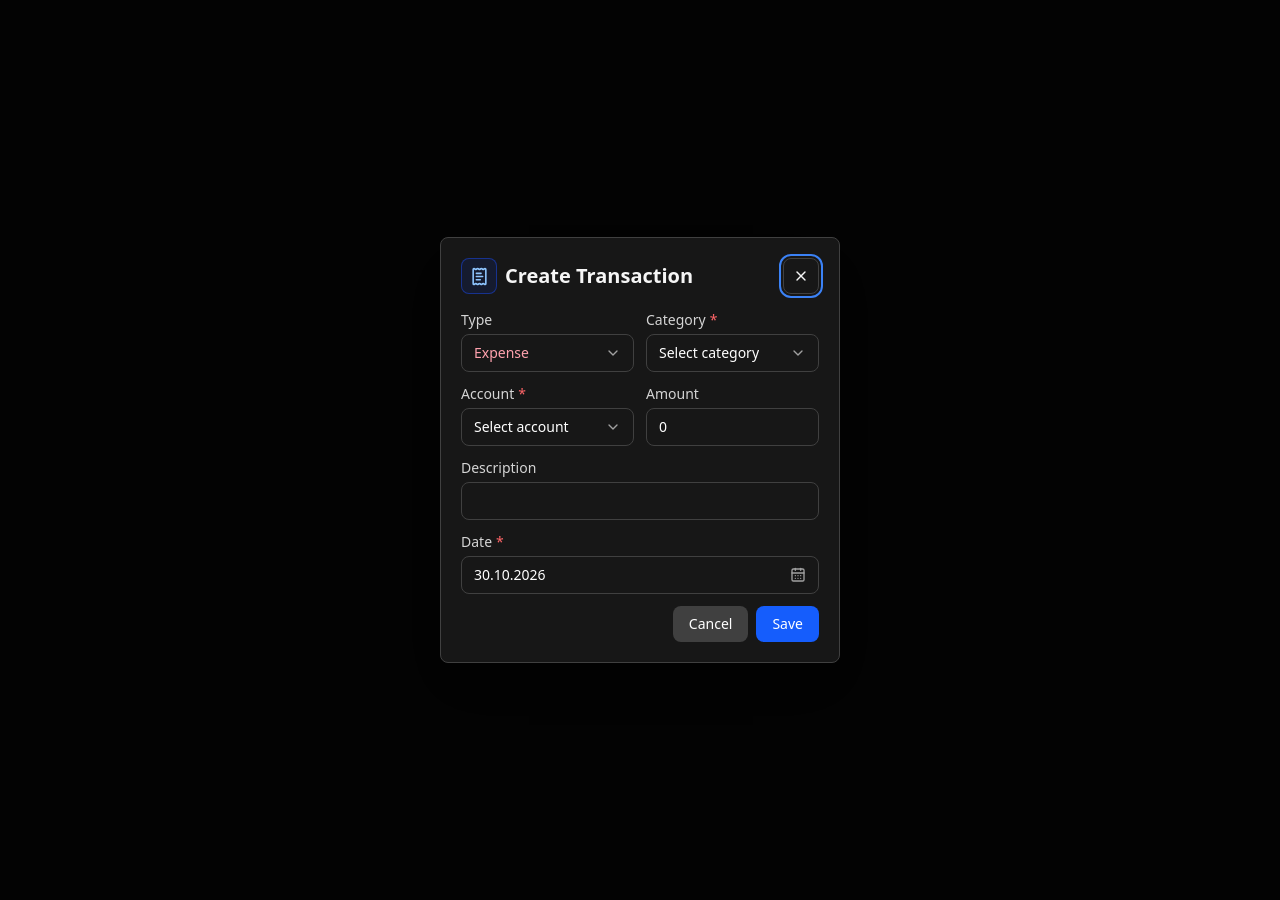
Test case: internal transaction modal category fields › keeps Account and Amount stable and shows Investor below them
This screenshot has width=1280, height=900.
Step 1. Click the button "Expense" → {"x": 548, "y": 353}, box [461,334,634,372]
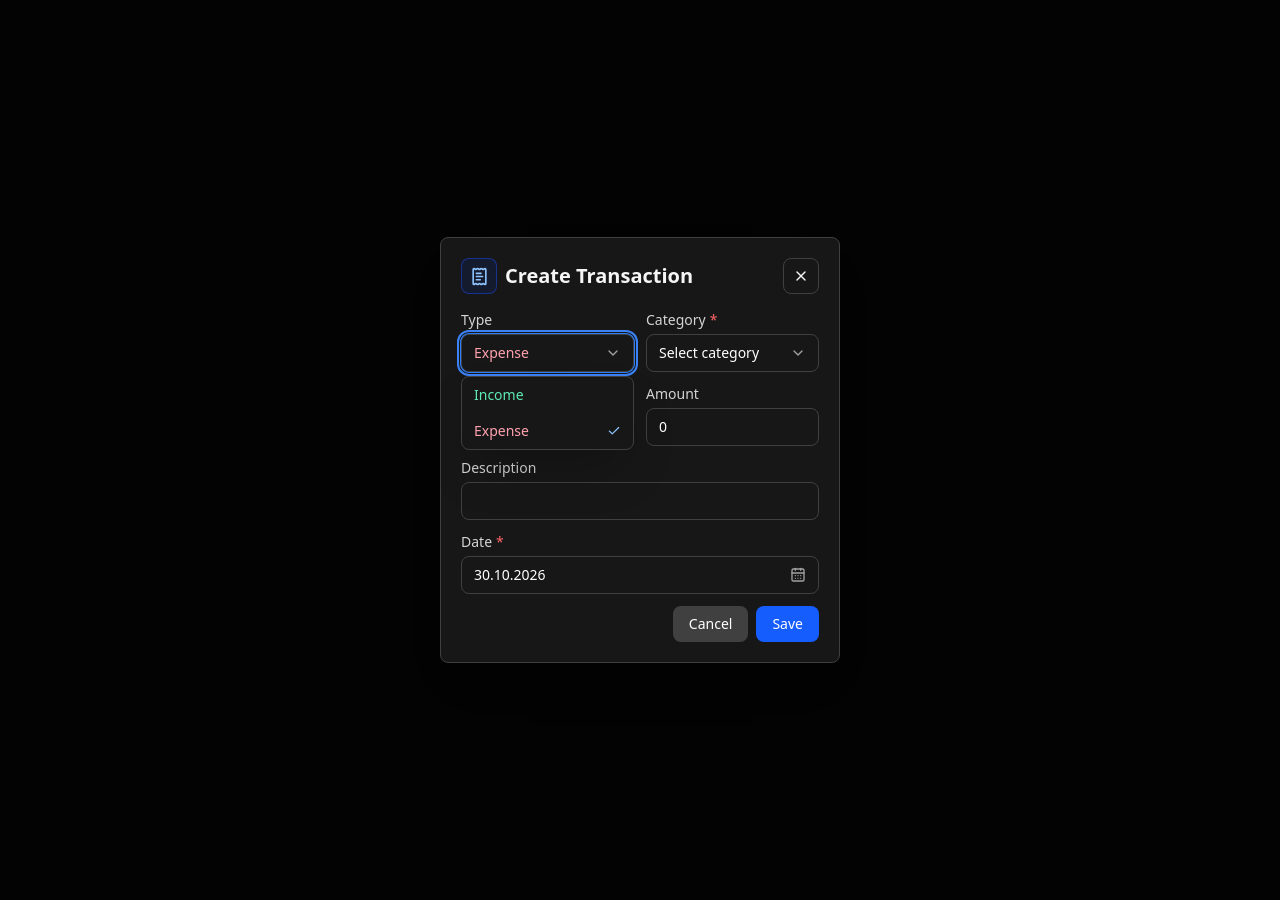
Step 2. Click the button "Income" → {"x": 548, "y": 395}, box [462,377,633,413]
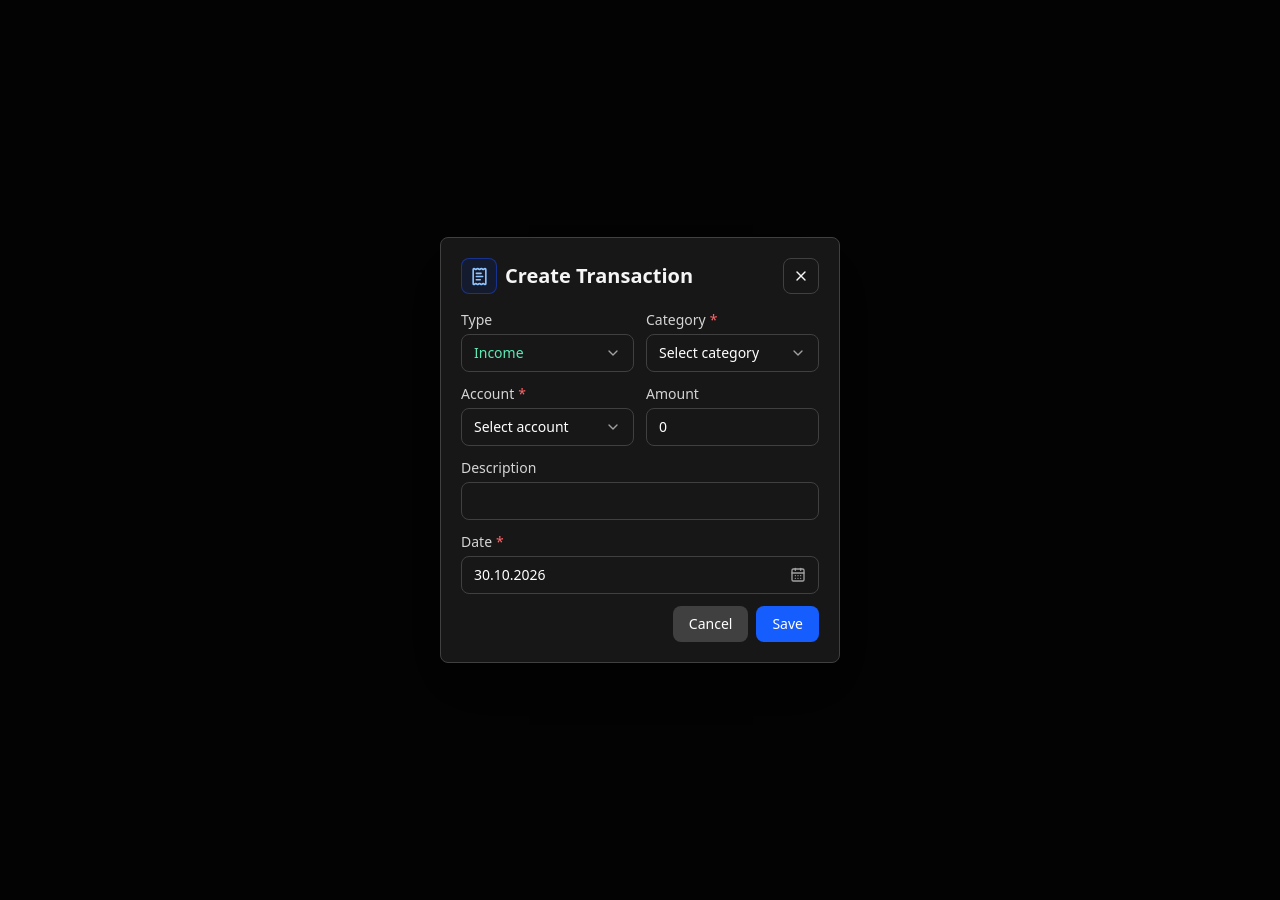
Step 3. Click the button "Select category" → {"x": 732, "y": 353}, box [646,334,819,372]
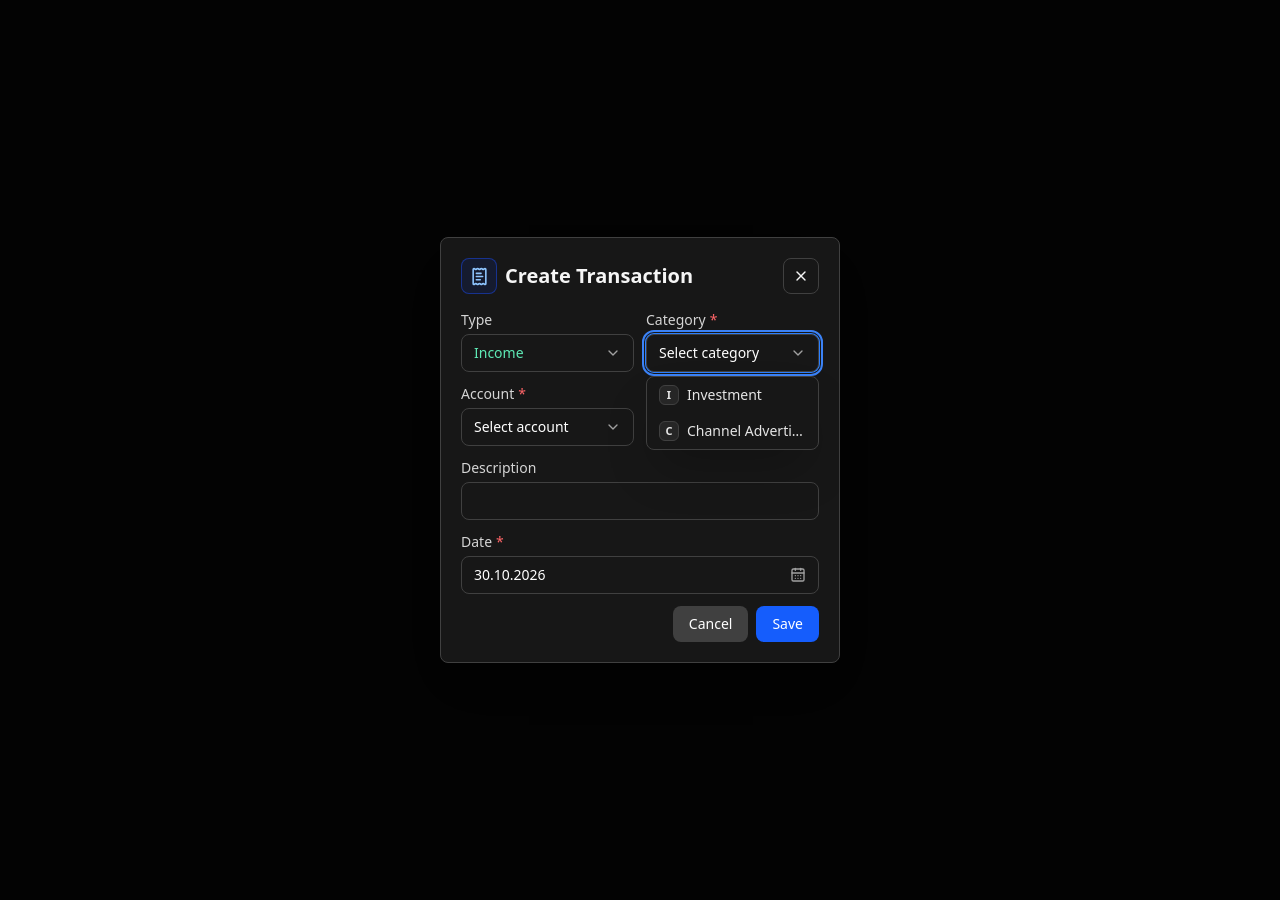
Step 4. Click the button "I Investment" → {"x": 732, "y": 395}, box [647,377,818,413]
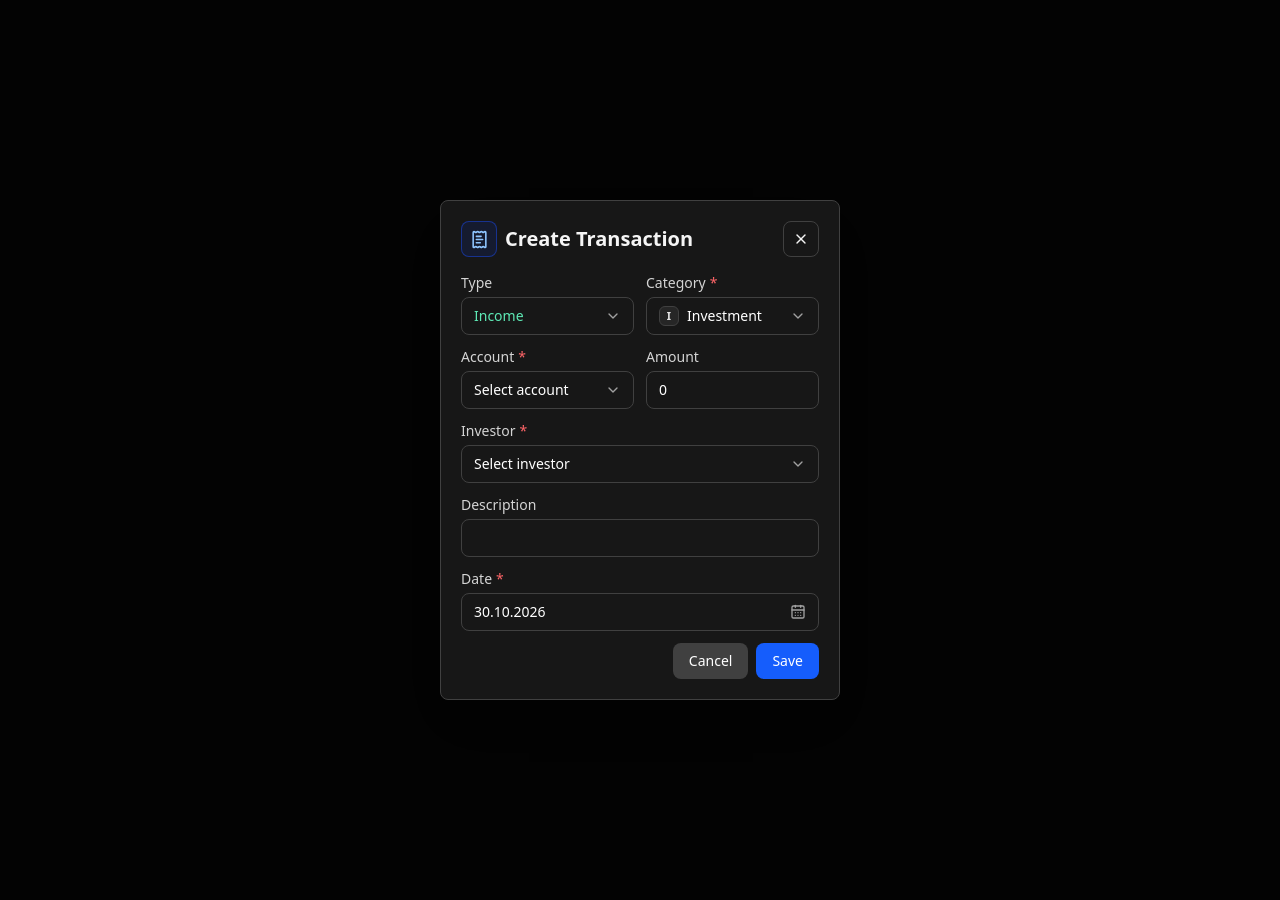
Expected: the text "Investor" is shown, [461,421,515,440]
